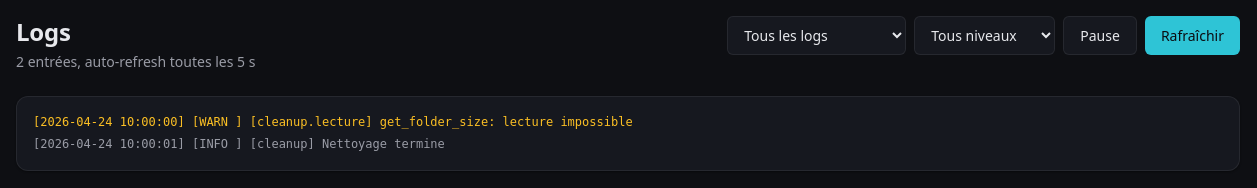
Test case: LogsPage › actions scope drops reads logged under a .lecture category
Expected: the text "lecture impossible" is shown, 33,115 -> 633,129
Select "Actions uniquement" in the dropdown named "Portée des logs" at (817, 36), box 727,16 -> 906,55
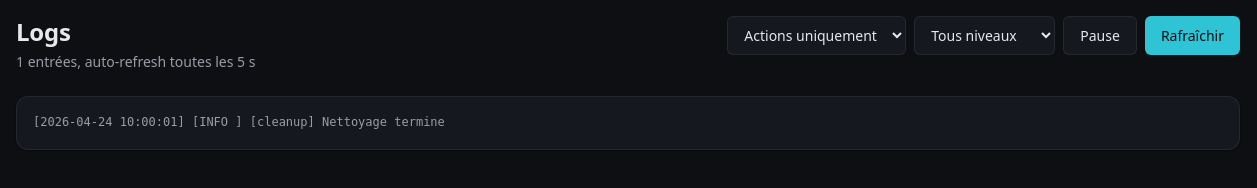
Expected: the text "[2026-04-24 10:00:01] [INFO ] [cleanup] Nettoyage termine" is shown, 33,115 -> 445,129
Expected: the text "lecture impossible" is gone
